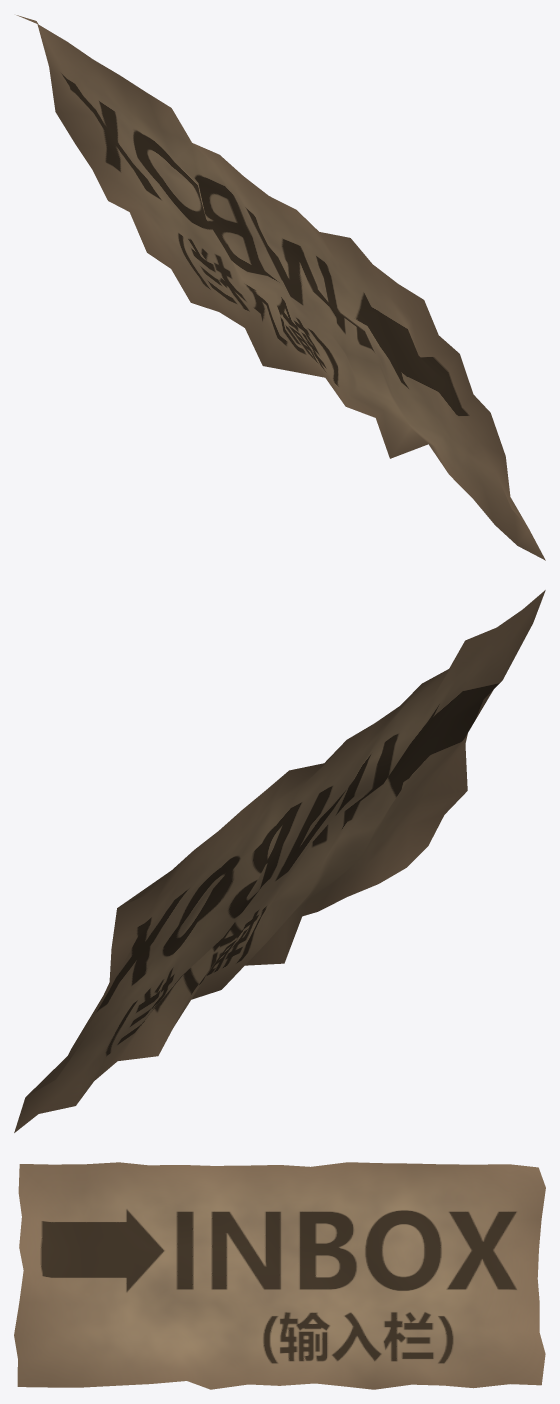
Rendered from DefaultLevel_InBox.fbx.
3 views of the same model, one above another, from view 1: azimuth 30°, elevation 25°; view 2: azimuth 150°, elevation 25°; view 3: azimuth 270°, elevation 25° (orthographic). The views are drawn at different scales.
Visible parts, largest first — view 1: DefaultLevel_InBox; view 2: DefaultLevel_InBox; view 3: DefaultLevel_InBox.
Part boxes in pixels (<box>): DefaultLevel_InBox: <box>16,15,545,560</box>; DefaultLevel_InBox: <box>14,590,545,1132</box>; DefaultLevel_InBox: <box>14,1162,545,1389</box>.
Size of the model in its own units: 94.33 by 193 by 481.
